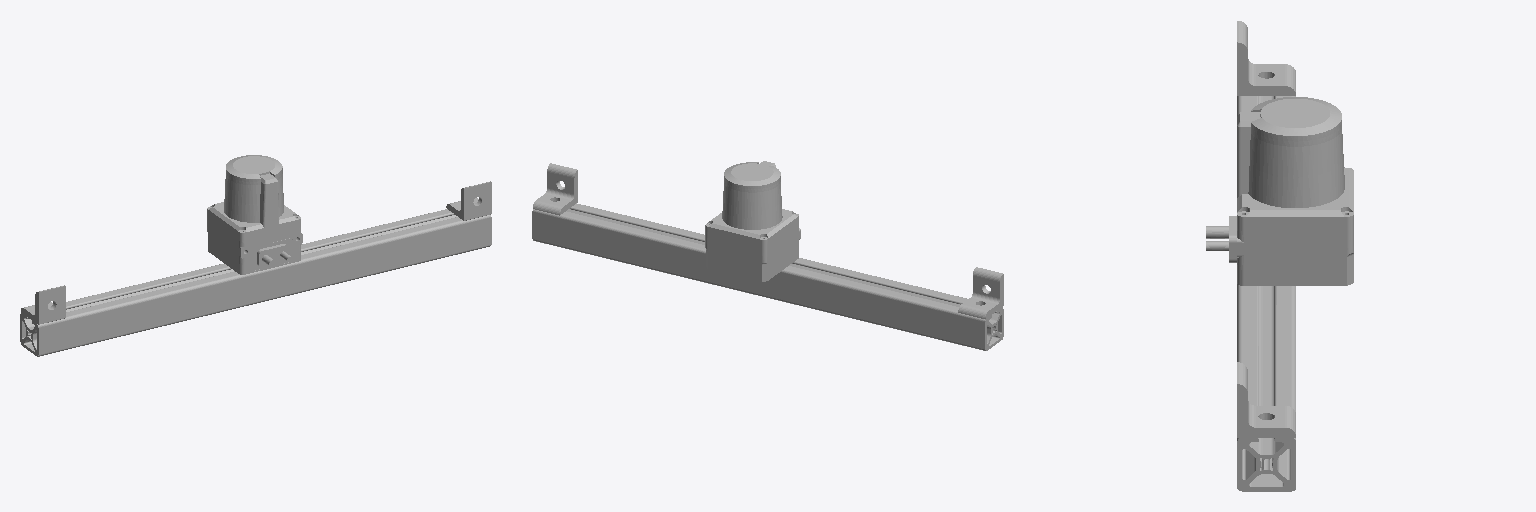
robot.urdf — base_frame_interface:
<?xml version="1.0" encoding="utf-8"?>
<!-- This URDF was automatically created by SolidWorks to URDF Exporter! Originally created by [author] ([email redacted]) 
     Commit Version: 1.6.0-1-g15f4949  Build Version: 1.6.7594.29634
     For more information, please see http://wiki.ros.org/sw_urdf_exporter -->
<robot
  name="base_frame_interface">
  <link
    name="base_link">
    <inertial>
      <origin
        xyz="0.00599227552650991 -0.261198207608213 0.094236791516591"
        rpy="0 0 0" />
      <mass
        value="16.7461725756636" />
      <inertia
        ixx="0.186915381099482"
        ixy="4.60256379195456E-05"
        ixz="0.000669416419663758"
        iyy="0.226338974219915"
        iyz="0.00400928228663316"
        izz="0.108792046303511" />
    </inertial>
    <visual>
      <origin
        xyz="0 0 0"
        rpy="0 0 0" />
      <geometry>
        <mesh
          filename="package://v5_asm/meshes/base_link.dae" />
      </geometry>
      <material
        name="">
        <color
          rgba="0.298039215686275 0.298039215686275 0.298039215686275 1" />
      </material>
    </visual>
    <collision>
      <origin
        xyz="0 0 0"
        rpy="0 0 0" />
      <geometry>
        <mesh
          filename="package://v5_asm/meshes/base_link.dae" />
      </geometry>
    </collision>
  </link>
  <link
    name="hokuyo">
    <inertial>
      <origin
        xyz="0.133584074211728 0.202324368680826 0.204105336507967"
        rpy="0 0 0" />
      <mass
        value="0.652167585839582" />
      <inertia
        ixx="0.00157050335763022"
        ixy="1.74853977399192E-06"
        ixz="3.70456316395289E-08"
        iyy="0.00157786080287871"
        iyz="-1.22184572203833E-07"
        izz="0.000194017970807751" />
    </inertial>
    <visual>
      <origin
        xyz="0 0 0"
        rpy="0 0 0" />
      <geometry>
        <mesh
          filename="package://v5_asm/meshes/hokuyo.dae" />
      </geometry>
      <material
        name="">
        <color
          rgba="0.752941176470588 0.752941176470588 0.752941176470588 1" />
      </material>
    </visual>
    <collision>
      <origin
        xyz="0 0 0"
        rpy="0 0 0" />
      <geometry>
        <mesh
          filename="package://v5_asm/meshes/hokuyo.dae" />
      </geometry>
    </collision>
  </link>
  <joint
    name="base_to_hokuyo"
    type="fixed">
    <origin
      xyz="-0.18441954955791 0.166823883869328 -0.206960021156072"
      rpy="0 0 1.5707963267949" />
    <parent
      link="base_link" />
    <child
      link="hokuyo" />
    <axis
      xyz="0 0 0" />
  </joint>

   
</robot>

--- Facts derived from the render (not from the file) ---
Views: 3 orthographic renders of the robot side by side, from view 1: azimuth 30°, elevation 25°; view 2: azimuth 150°, elevation 25°; view 3: azimuth 270°, elevation 25°.
Model base_frame_interface with 2 links and 1 joints (1 fixed), rooted at base_link, posed all joints at 0.
Visible links, largest first — view 1: hokuyo; view 2: hokuyo; view 3: hokuyo.
Link boxes in pixels (x1=…): hokuyo: x1=20, y1=155, x2=491, y2=356; hokuyo: x1=532, y1=161, x2=1003, y2=350; hokuyo: x1=1206, y1=21, x2=1353, y2=491.
Size in the robot's own frame: 0.3683 by 0.0632 by 0.0954 metres.
1 mesh visuals loaded from 2 distinct referenced files (1 Collada DAE); not drawn: 1 (reference not matched to a file when rendering).